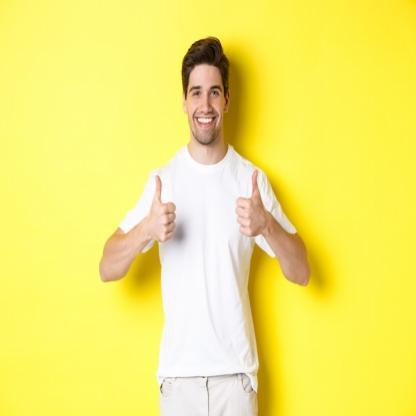thumb_up: (144, 168, 180, 247), (235, 168, 266, 238)
